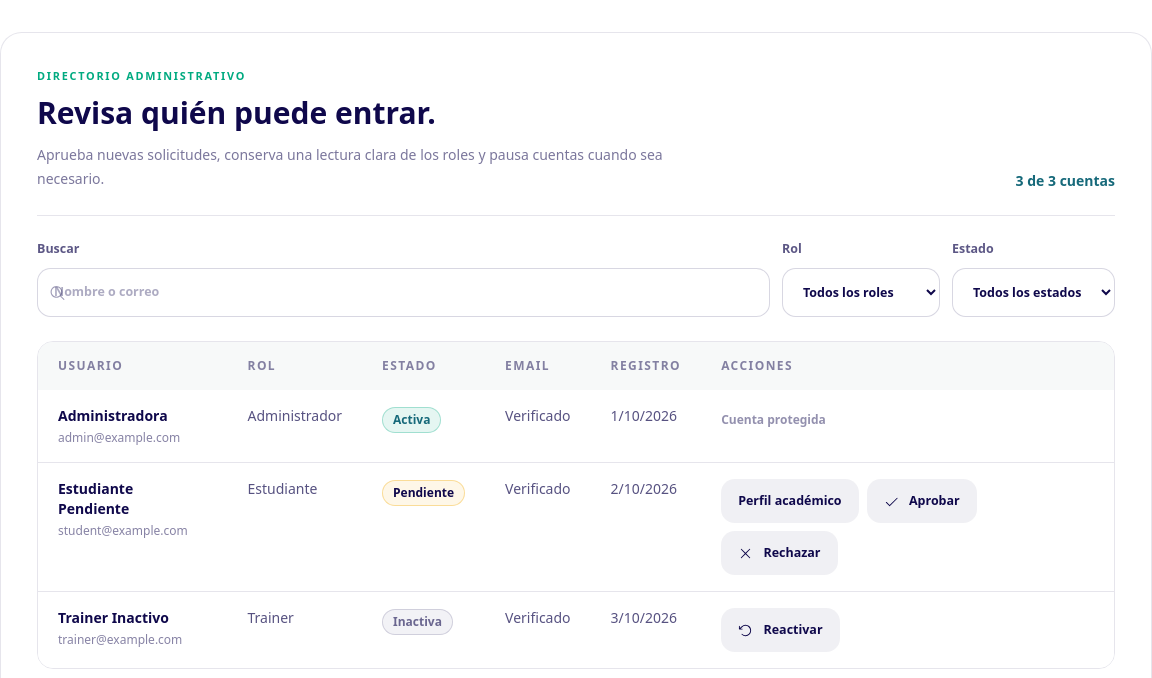
Test: UserManagement › shows backend errors for status changes
Click the button "Aprobar".
click(922, 501)  # box [867,479,977,523]
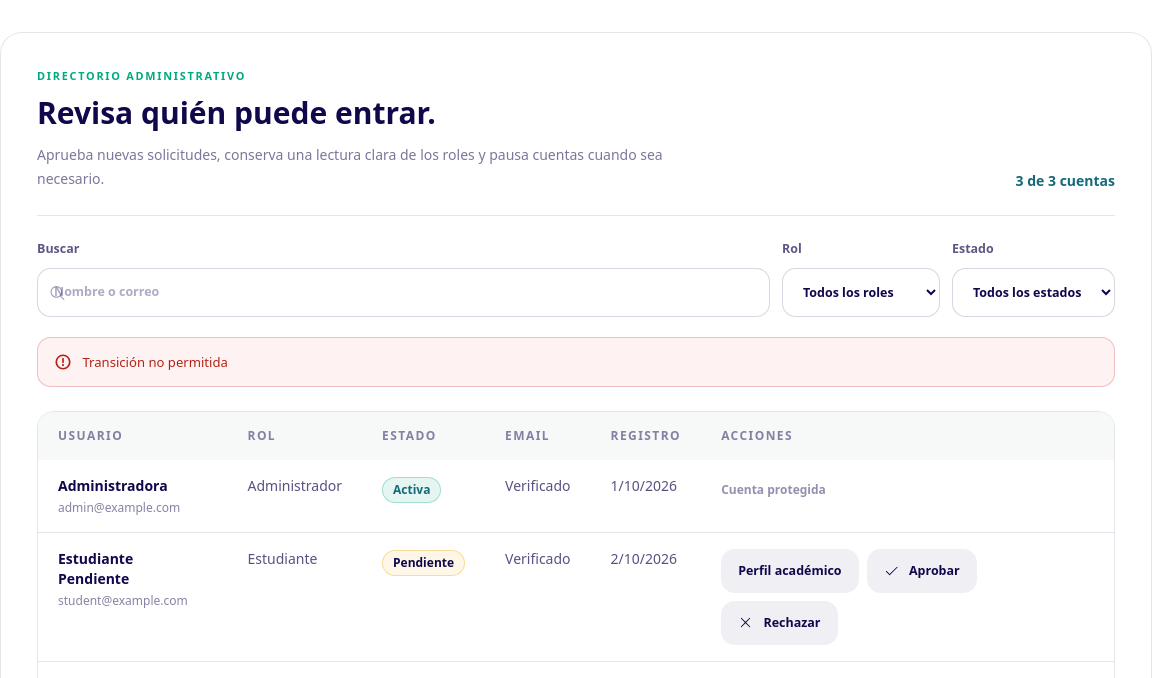
Expected: the message reads "Transición no permitida", [82,353,228,371]
Click the button "Aprobar".
click(922, 571)  # box [867,549,977,593]
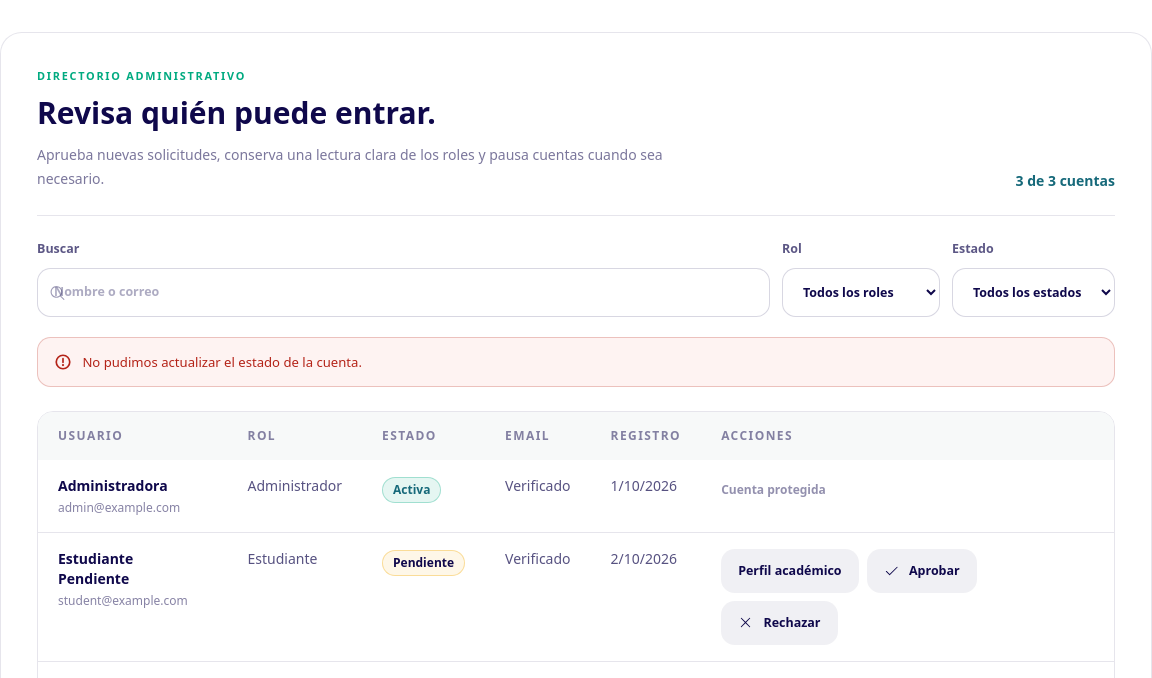
Expected: the message reads "No pudimos actualizar el estado de la cuenta.", [82,353,362,371]
